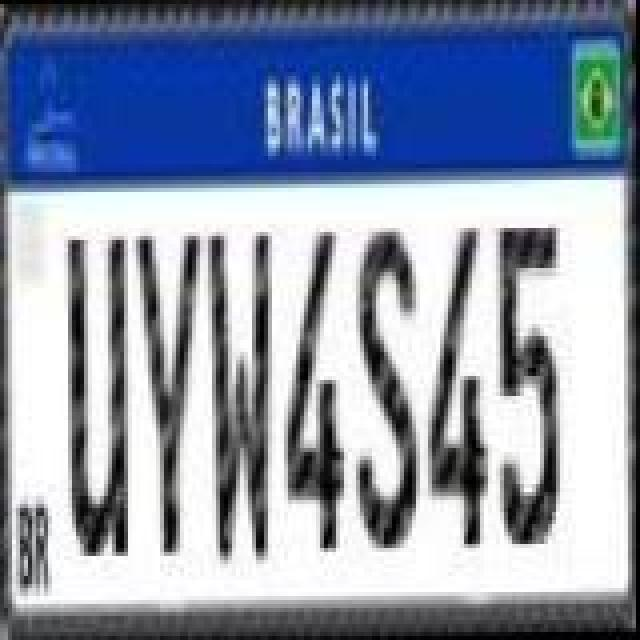4: (282, 228, 350, 552), (424, 222, 488, 546)
5: (496, 222, 560, 546)
S: (354, 222, 422, 546)
U: (66, 228, 134, 564)
W: (206, 232, 274, 568)
Y: (136, 230, 208, 554)
